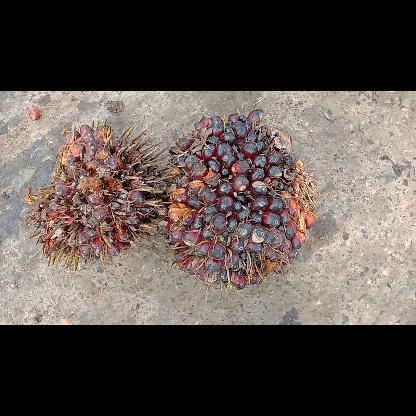Kurang masak: (157, 110, 318, 294)
TBS masak: (28, 120, 172, 270)
